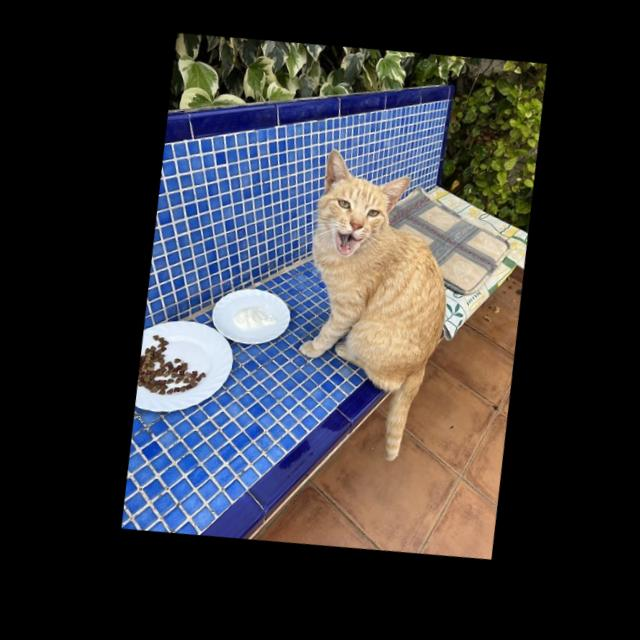animals: (272, 146, 470, 479)
